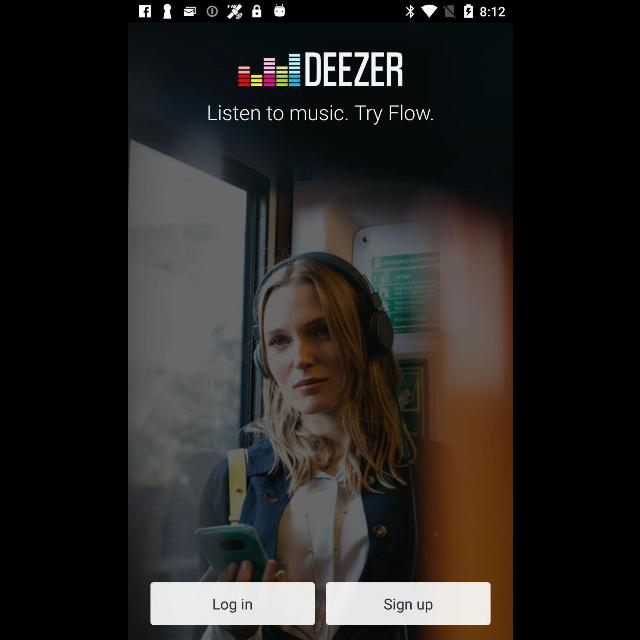backgroundimage: (128, 22, 512, 640)
image: (238, 53, 402, 87)
text: (208, 105, 432, 125)
textbutton: (150, 582, 314, 626), (326, 583, 490, 625)
uppertaskbar: (128, 1, 512, 23)
